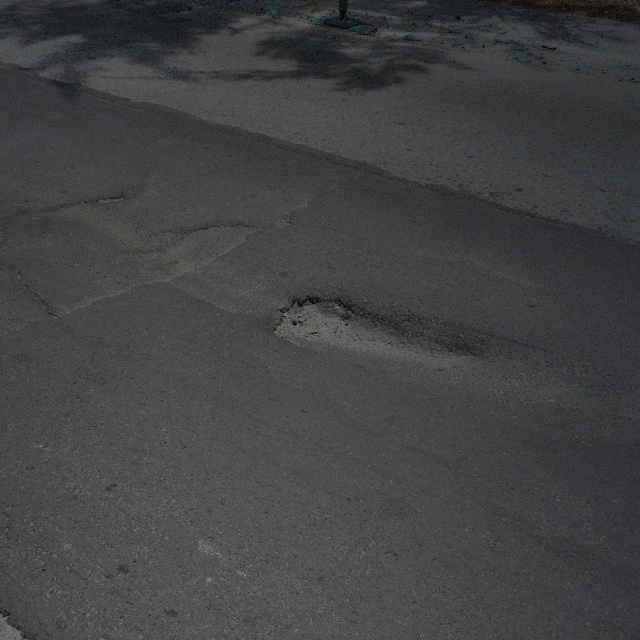pothole: (271, 288, 401, 370), (167, 220, 261, 283), (96, 195, 125, 206)
